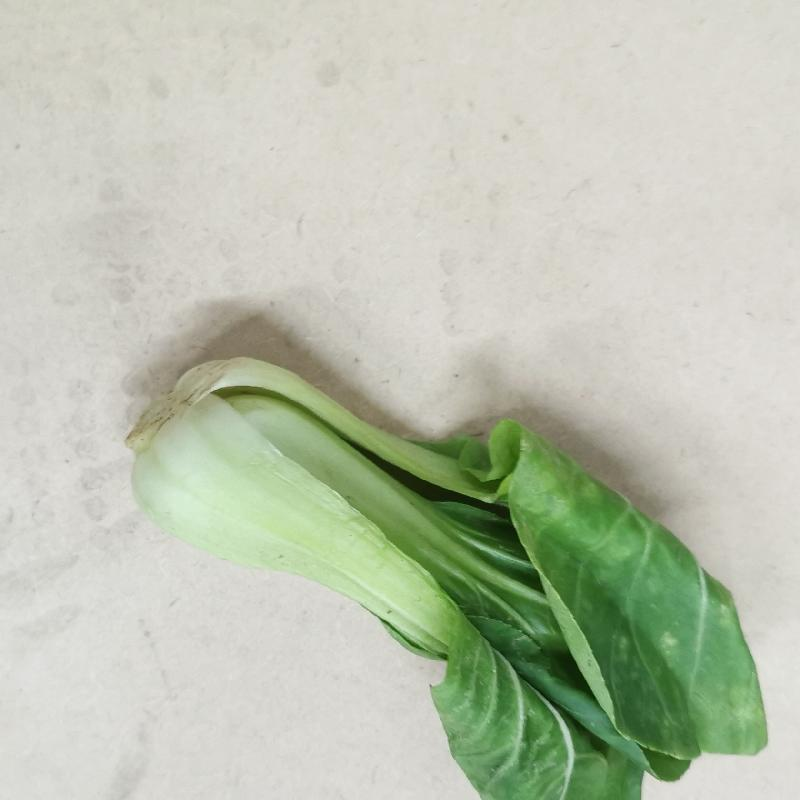green vegatable: (123, 349, 800, 799)
